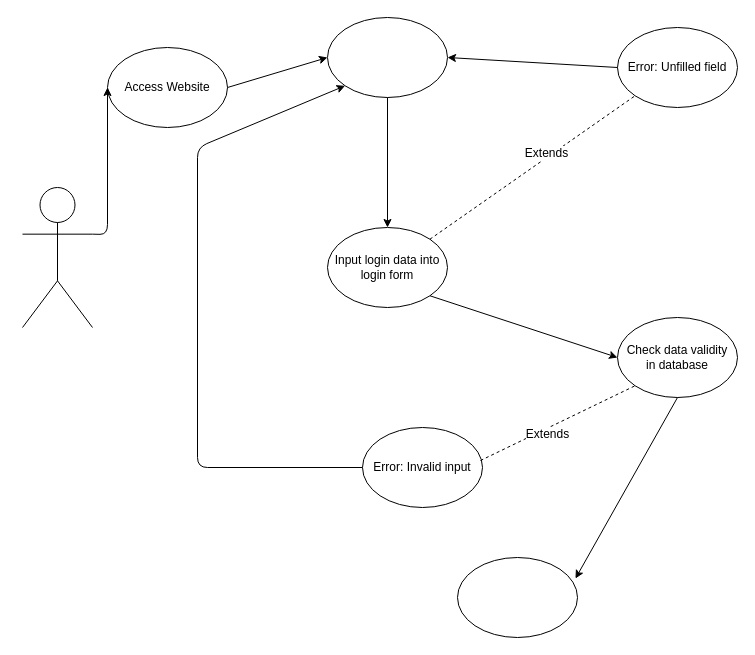
The diagram is 755 pixels wide and 655 high, and some of its shapes have lost their labels. Each missing label, with the box of its shape:
Go to main page: (456, 556, 578, 638)
Login Page: (326, 16, 448, 98)
Unlogged User: (22, 186, 92, 328)
